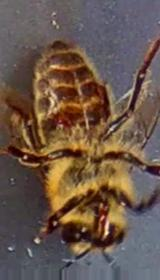varroa_mite: (44, 103, 76, 132)
